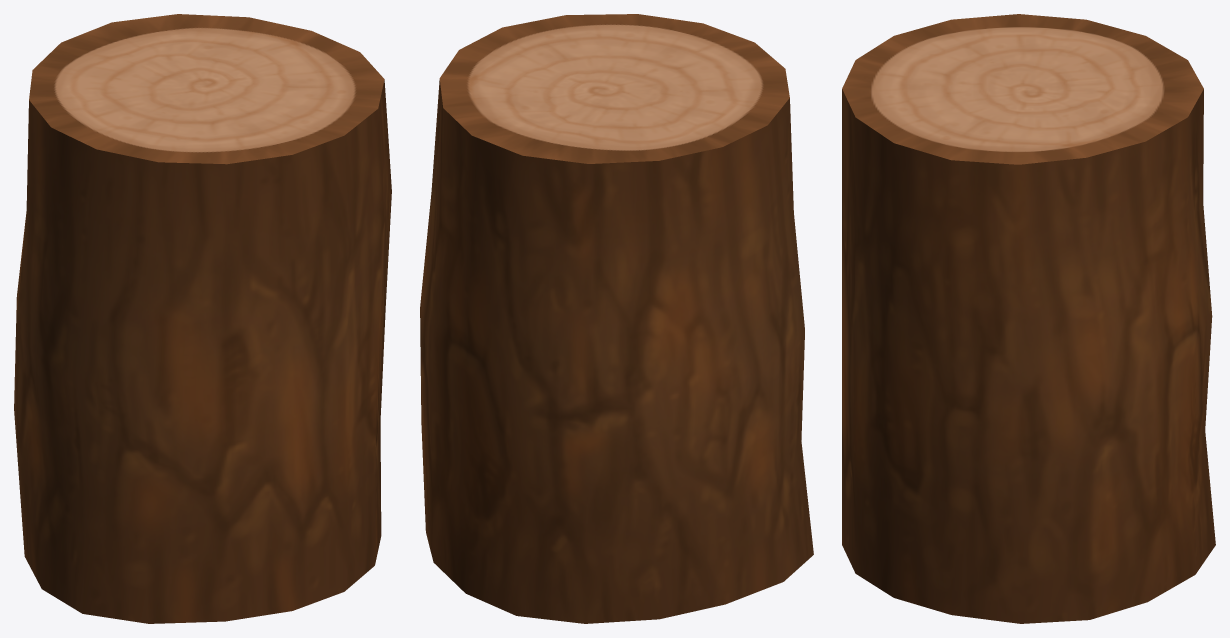
File: log.FBX
The picture shows the model from 3 angles, left to right: view 1: azimuth 30°, elevation 25°; view 2: azimuth 150°, elevation 25°; view 3: azimuth 270°, elevation 25°; orthographic projection.
Visible parts, largest first — view 1: log; view 2: log; view 3: log.
Part boxes in pixels (left/top/right/bottom): log: left=14, top=14, right=391, bottom=623; log: left=420, top=14, right=813, bottom=623; log: left=842, top=14, right=1215, bottom=623.
Size of the model in its own units: 30.51 by 40.22 by 29.86.
